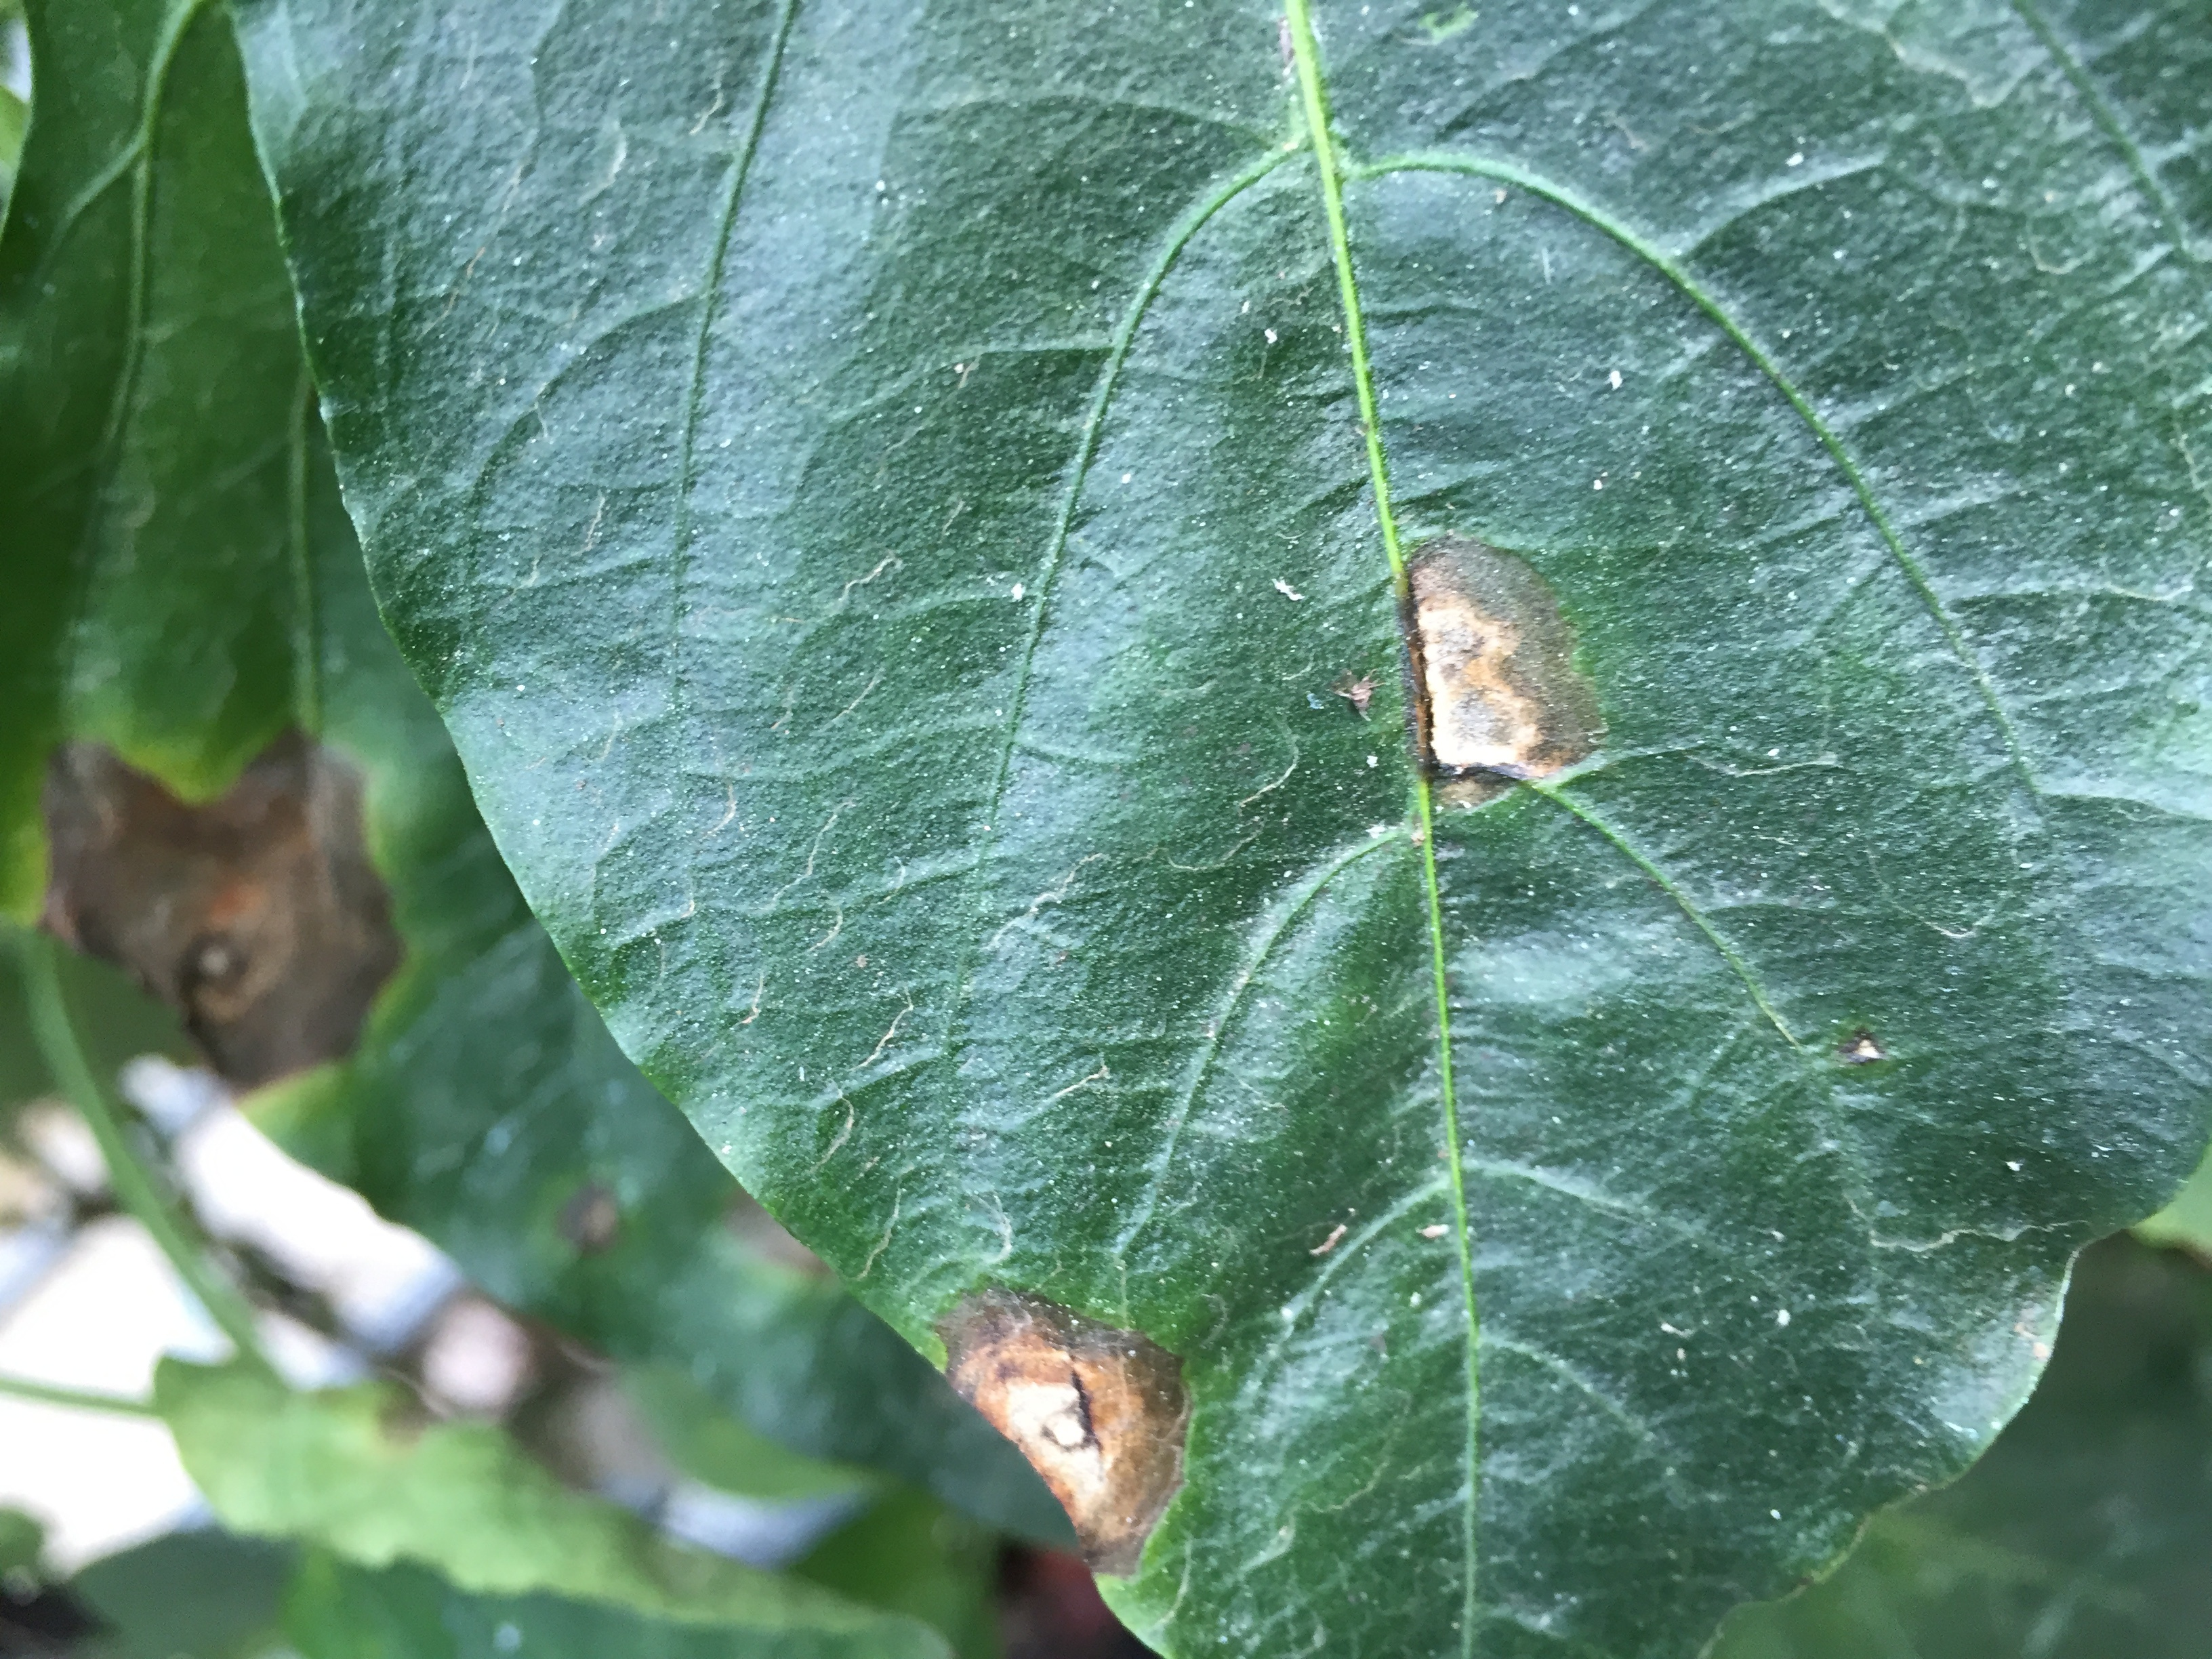spotting_disease: (19, 694, 413, 1112), (911, 1244, 1230, 1591), (1353, 518, 1620, 814), (554, 1171, 648, 1270)
